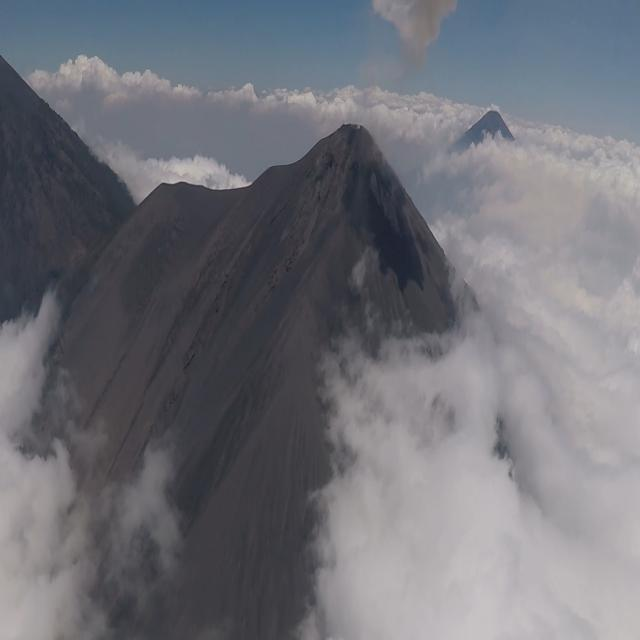Plume: (365, 0, 464, 64)
Summit: (243, 118, 434, 236)
